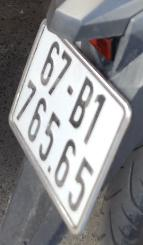1: (76, 87, 114, 152)
5: (62, 150, 99, 219), (33, 103, 70, 166)
6: (50, 131, 81, 192), (22, 93, 53, 146), (35, 36, 64, 90)
7: (42, 46, 77, 104), (9, 77, 44, 130)
B: (64, 73, 101, 134)
